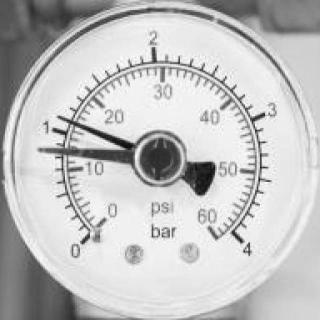gauge: (0, 0, 320, 320), (65, 201, 133, 263), (131, 128, 189, 188), (226, 225, 256, 258), (53, 107, 69, 127), (34, 142, 49, 158)
